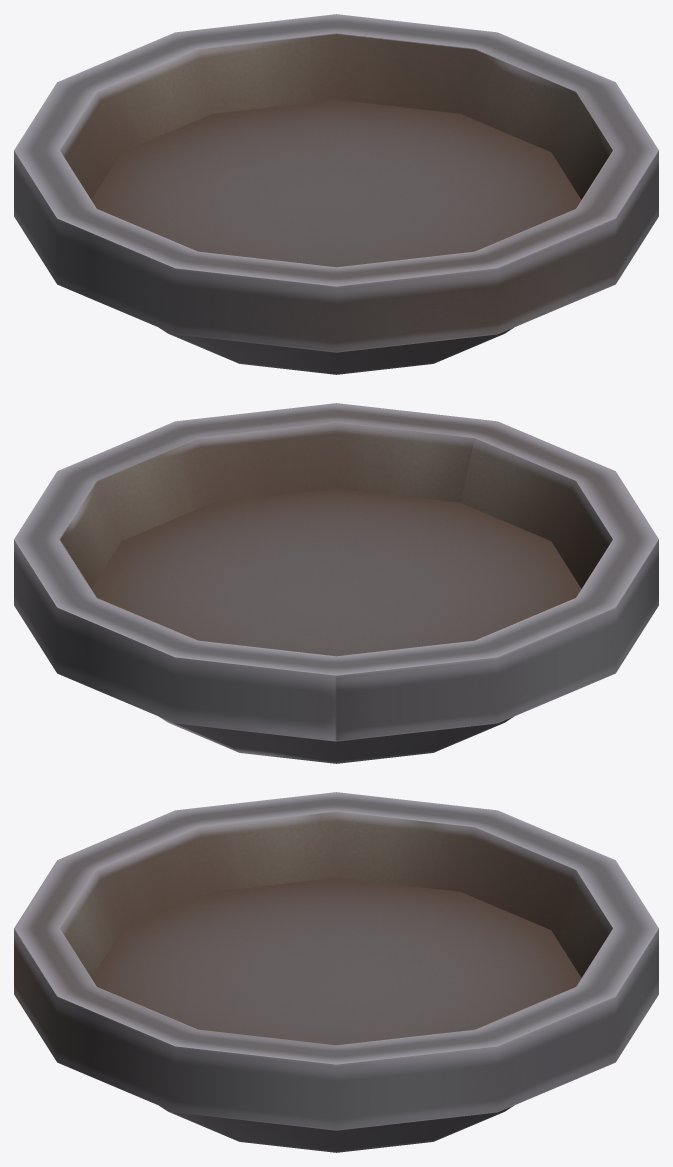
File: SM_Candle_Plate.fbx
The picture shows the model from 3 angles, top to bottom: view 1: azimuth 30°, elevation 25°; view 2: azimuth 150°, elevation 25°; view 3: azimuth 270°, elevation 25°; orthographic projection.
Visible parts, largest first — view 1: SM_Candle_Plate_LOD0; view 2: SM_Candle_Plate_LOD0; view 3: SM_Candle_Plate_LOD0.
Part boxes in pixels (<box>): SM_Candle_Plate_LOD0: <box>14,14,658,374</box>; SM_Candle_Plate_LOD0: <box>14,403,658,763</box>; SM_Candle_Plate_LOD0: <box>14,792,658,1152</box>.
Size of the model in its own units: 12.56 by 12.56 by 3.06.
1 material, 1 textured.
